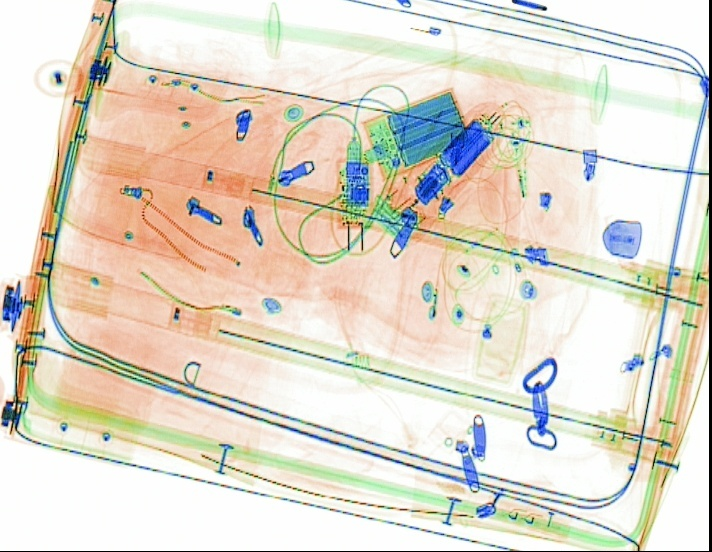powerbank: (361, 83, 471, 184)
